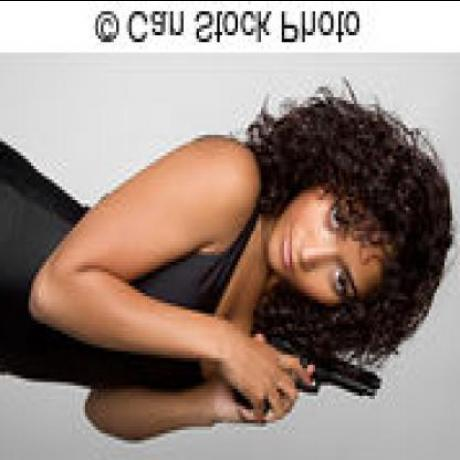1: (0, 113, 444, 441)
weapon: (224, 328, 386, 416)
